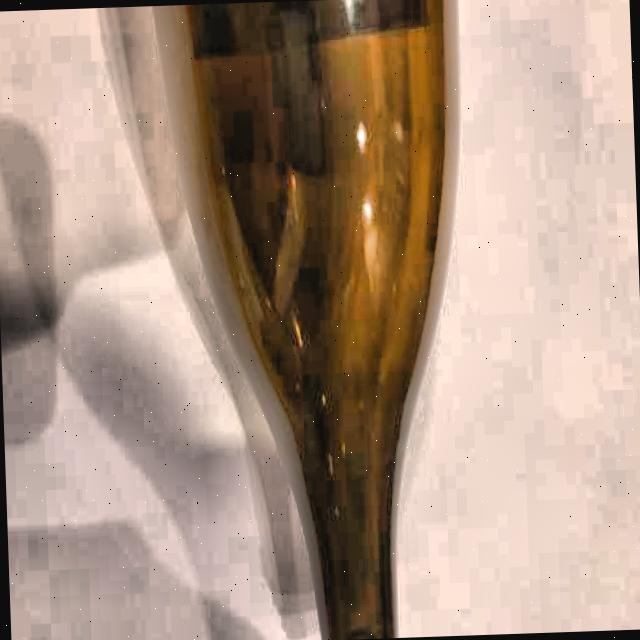glass: (180, 0, 482, 638)
